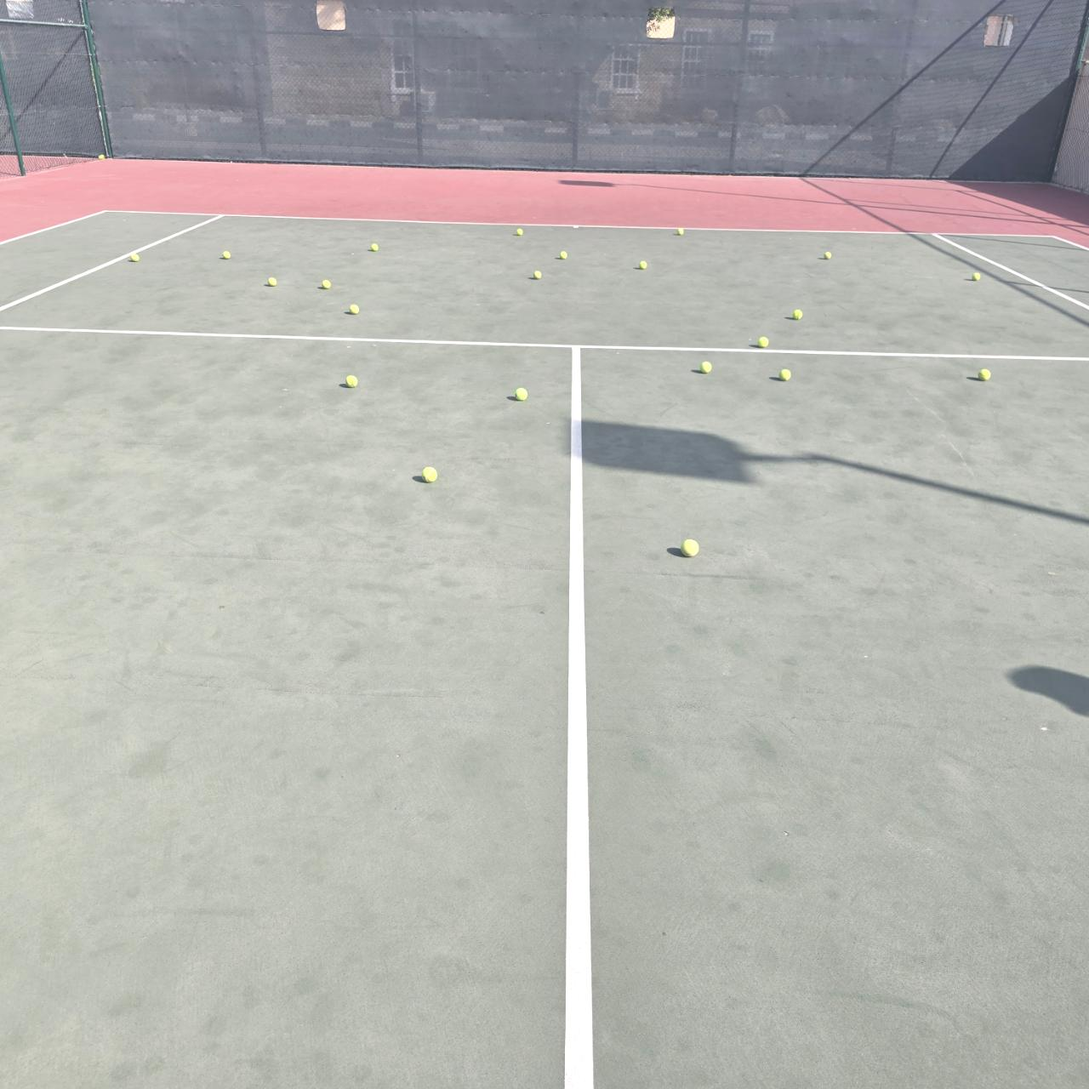tennis-ball: (681, 539, 698, 557), (420, 464, 437, 482), (512, 385, 528, 402), (344, 373, 357, 387), (978, 369, 991, 381), (778, 369, 791, 381), (700, 361, 712, 373), (757, 337, 769, 348), (349, 304, 360, 315), (793, 309, 803, 320), (321, 280, 331, 289), (222, 251, 231, 260), (268, 277, 277, 286), (533, 270, 542, 279), (972, 272, 981, 281), (130, 254, 139, 262), (371, 243, 379, 252), (560, 251, 568, 259), (639, 261, 647, 269), (824, 251, 832, 259), (677, 228, 684, 236), (516, 228, 523, 235), (98, 154, 105, 160)
